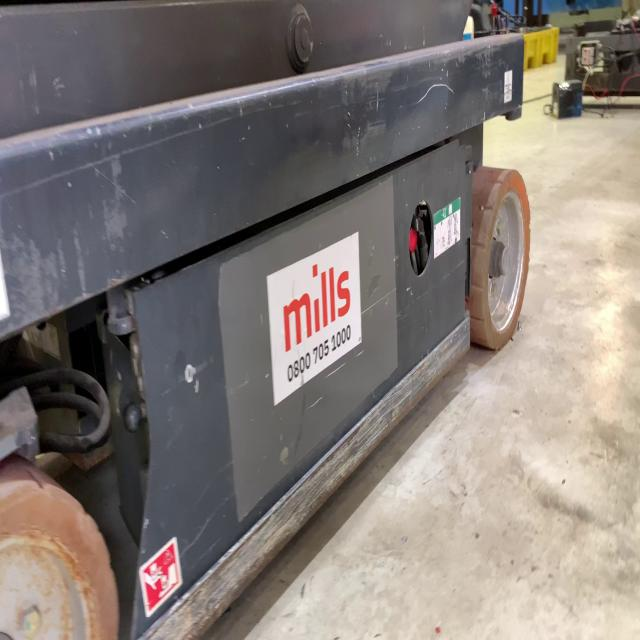Adesivos: (262, 229, 365, 408)
